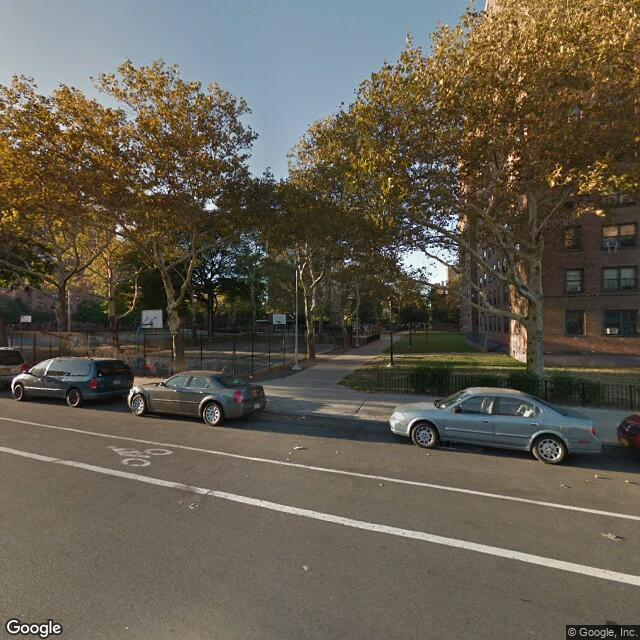litter: (287, 438, 310, 452)
